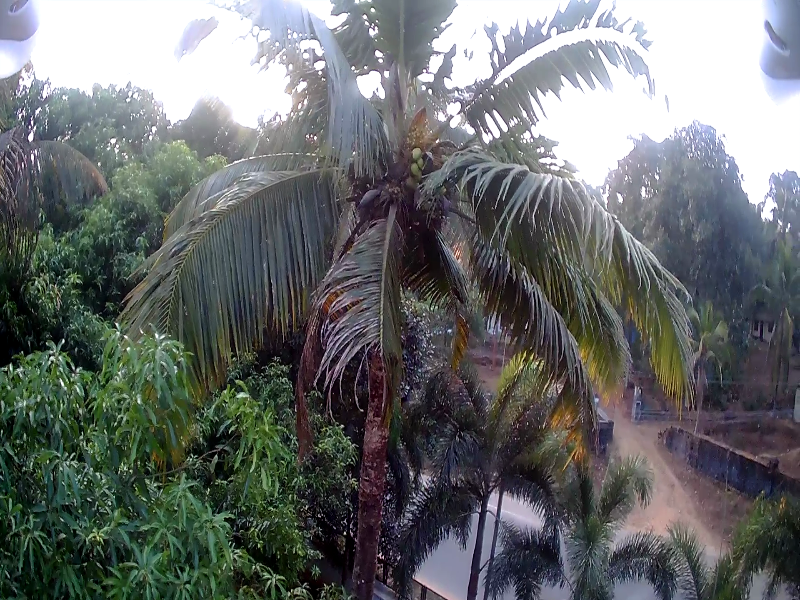coconut: (411, 145, 420, 160), (412, 151, 422, 164), (409, 162, 415, 173), (403, 179, 408, 184)
